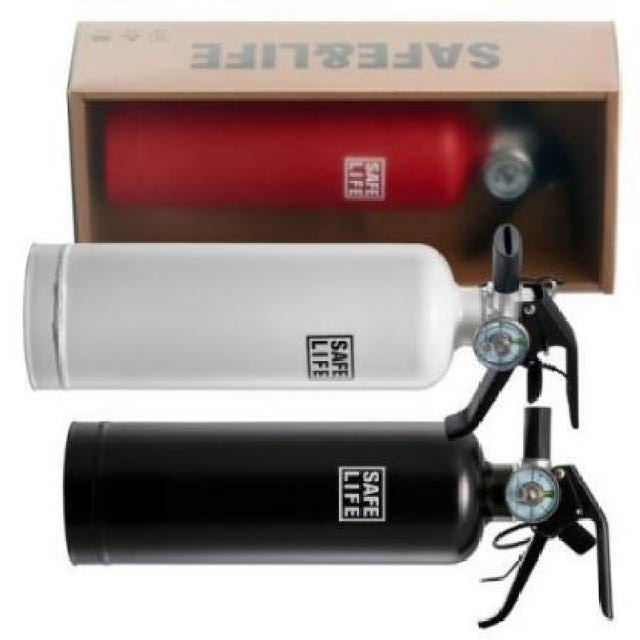fire extinguisher: (63, 405, 614, 630), (22, 221, 581, 442)
